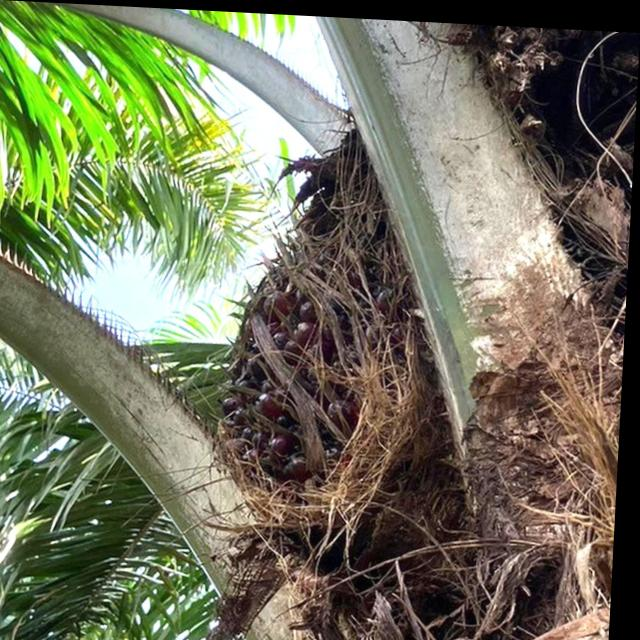ripe: (196, 197, 457, 542)
